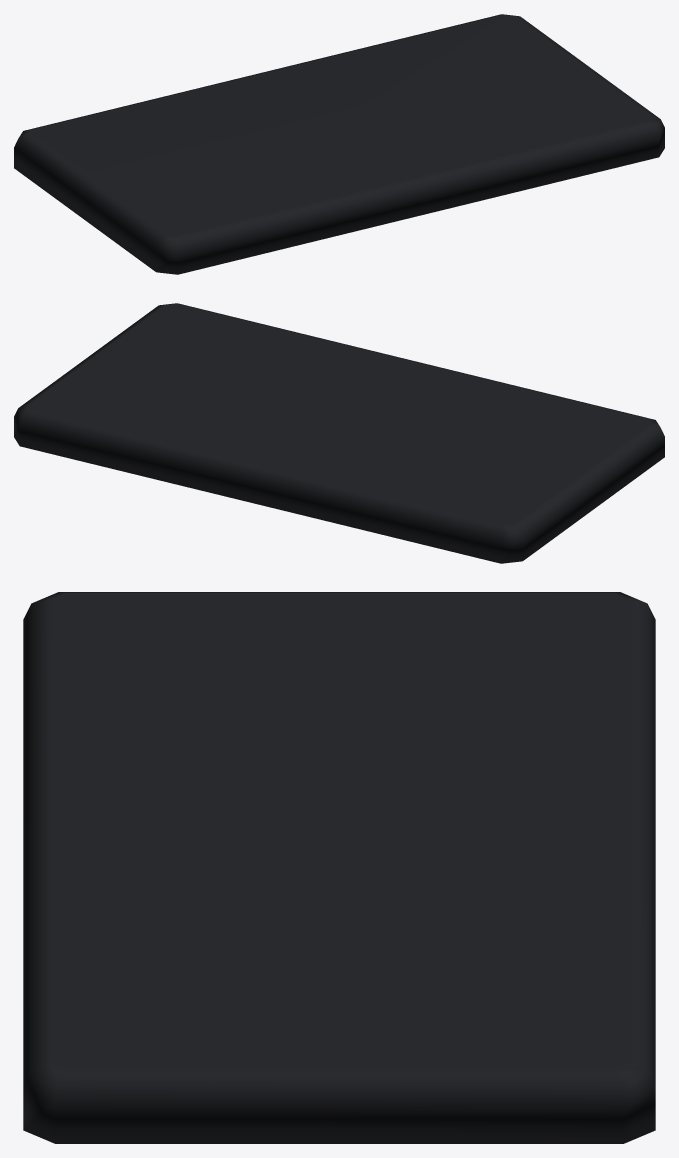
File: targhetta_v01.fbx
3 renders of one model, top to bottom at view 1: azimuth 30°, elevation 25°; view 2: azimuth 150°, elevation 25°; view 3: azimuth 270°, elevation 25°, orthographic. The views are drawn at different scales.
Visible parts, largest first — view 1: targhetta_v01; view 2: targhetta_v01; view 3: targhetta_v01.
Part boxes in pixels (x1=…): targhetta_v01: x1=14, y1=14, x2=664, y2=274; targhetta_v01: x1=14, y1=303, x2=664, y2=563; targhetta_v01: x1=23, y1=592, x2=655, y2=1143.
Bounding box in the file's own units: 3.65 × 0.225 × 1.96.
